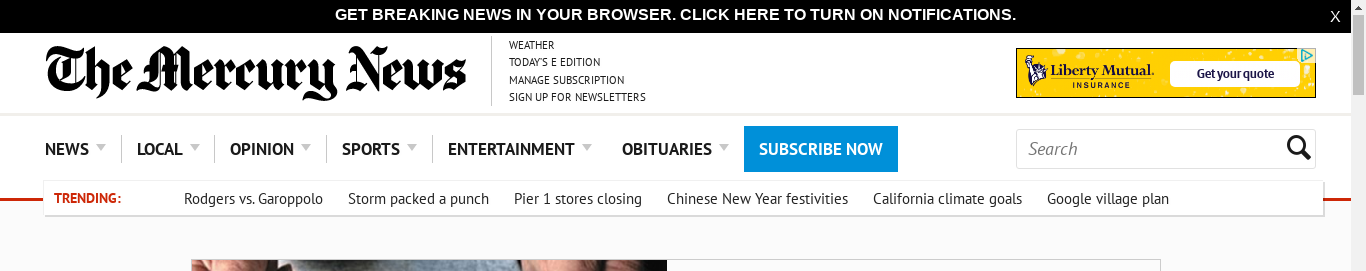fake_button: (741, 117, 902, 177)
